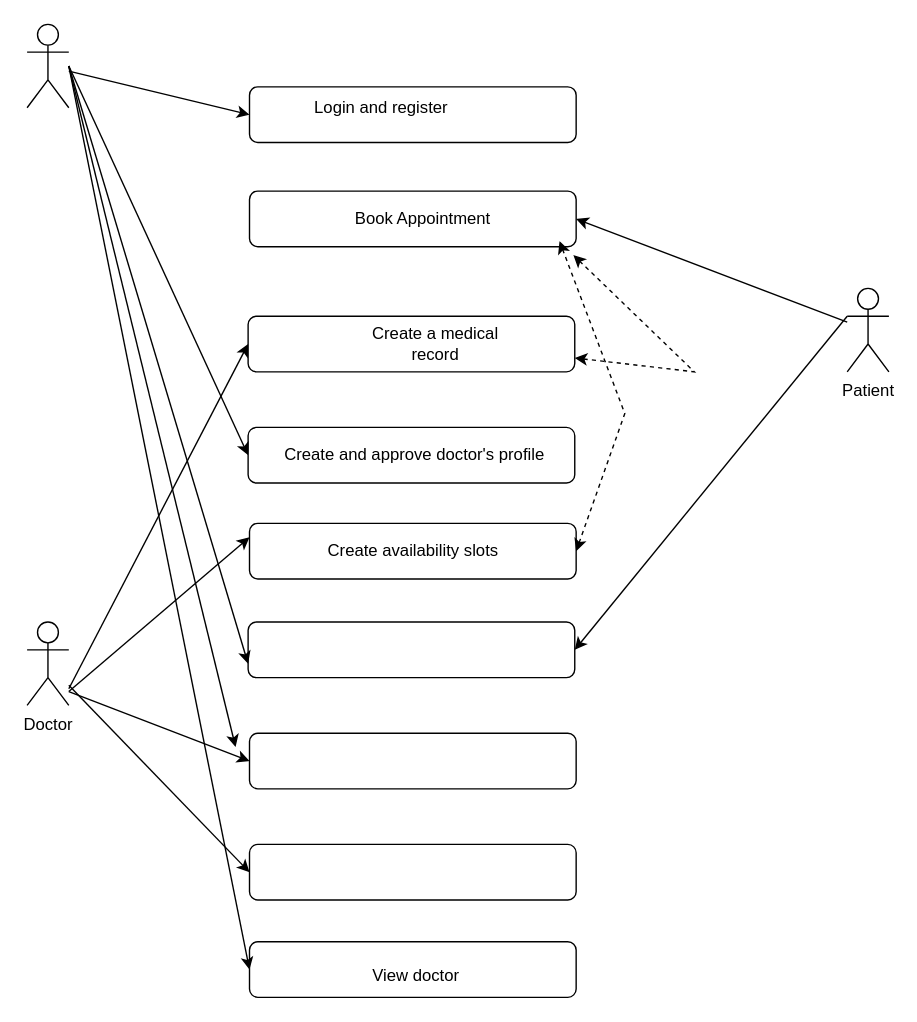
Some shapes in this 917 by 1022 pixel diagram are drawn without their labels. The shapes that lost their labels are listed below. From the top down, each one's box as (x1, y1, x2, y2) in pixels, then its label:
(26, 23, 69, 108): Admin
(247, 621, 575, 678): Register patient
(248, 732, 576, 789): View patients
(248, 843, 576, 900): View booked appointments
